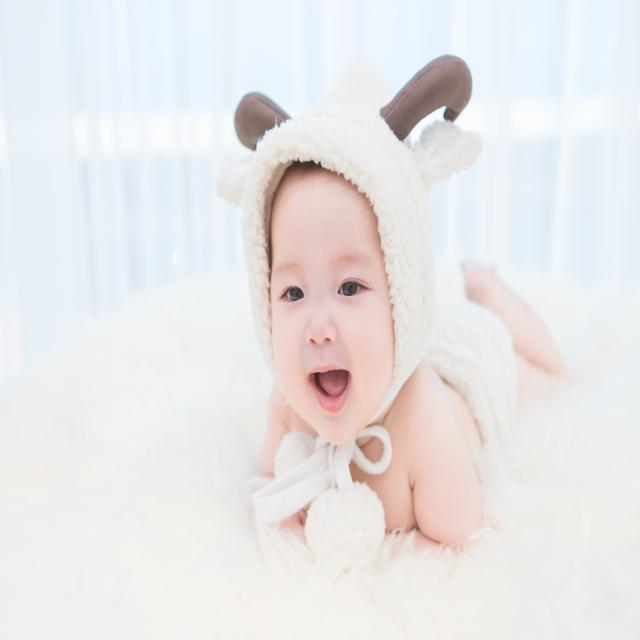lie: (220, 153, 592, 573)
